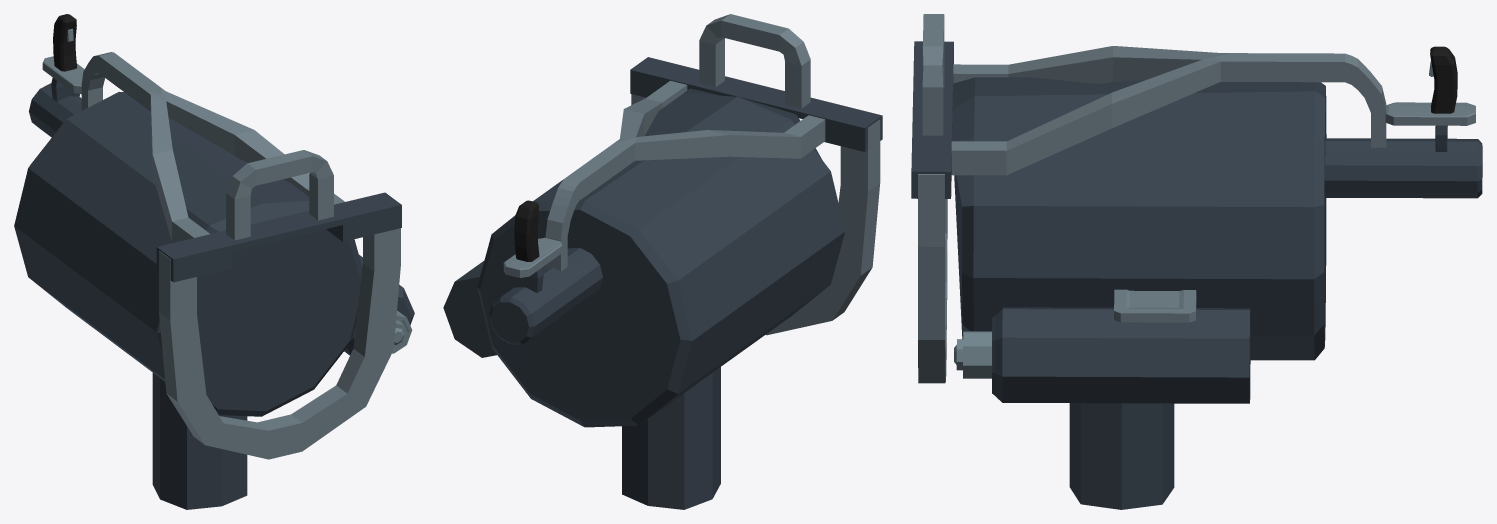
Rendered from MinigunBase.fbx.
The picture shows the model from 3 angles, left to right: view 1: azimuth 30°, elevation 25°; view 2: azimuth 150°, elevation 25°; view 3: azimuth 270°, elevation 25°; orthographic projection. The views are drawn at different scales.
Visible parts, largest first — view 1: minigun_base; view 2: minigun_base; view 3: minigun_base.
Part boxes in pixels (box(x1,y1,x2,y2)): minigun_base: box(14, 14, 414, 509); minigun_base: box(443, 14, 882, 509); minigun_base: box(911, 14, 1482, 509).
Bounding box in the file's own units: 26.39 × 34.91 × 39.55.
